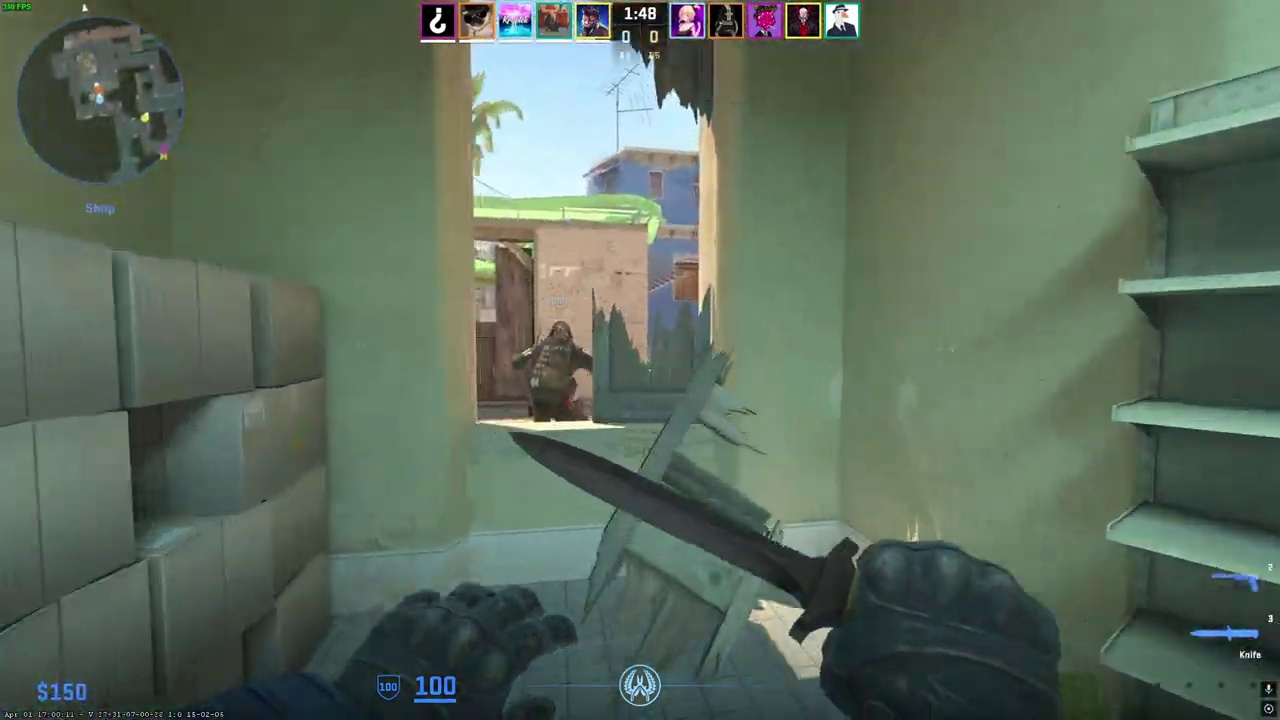CT: (524, 320, 594, 422)
